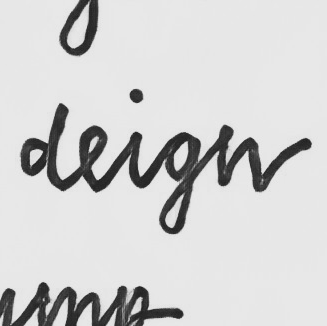d: (18, 100, 71, 179)
e: (74, 122, 113, 195)
g: (154, 130, 204, 236)
i: (119, 86, 151, 191)
n: (212, 123, 267, 193)
